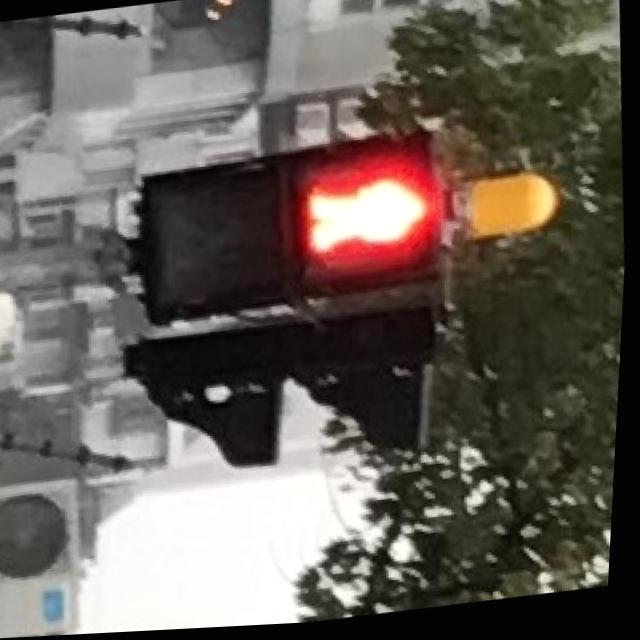red_light: (295, 137, 444, 293)
